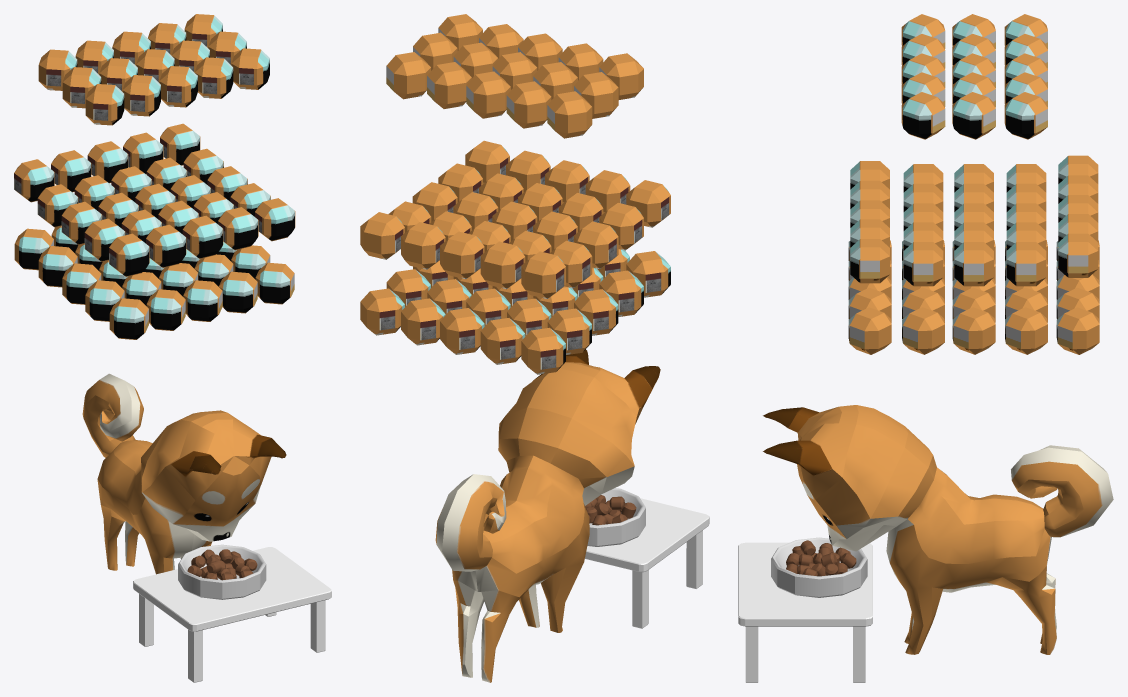
File: fullBowl_frame26.obj
3 renders of one model, left to right at view 1: azimuth 30°, elevation 25°; view 2: azimuth 150°, elevation 25°; view 3: azimuth 270°, elevation 25°, orthographic. The views are drawn at different scales.
Visible parts, largest first — view 1: newRigging1:BodzL1, Tisch:Tisch:pCube1, FressnapfFull:bulletRigidSetSolved1, FressnapfFull:pCube45, FressnapfFull:pCube46, FressnapfFull:pCube57, FressnapfFull:pCube48, FressnapfFull:pCube50, FressnapfFull:pCube43, FressnapfFull:pCube49, FressnapfFull:pCube42, FressnapfFull:pCube36 (+44 smaller); view 2: newRigging1:BodzL1, Tisch:Tisch:pCube1, FressnapfFull:bulletRigidSetSolved1, FressnapfFull:pCube39, FressnapfFull:pCube51, FressnapfFull:pCube64, FressnapfFull:pCube54, FressnapfFull:pCube37, FressnapfFull:pCube61, FressnapfFull:pCube55, FressnapfFull:pCube53, FressnapfFull:pCube41 (+45 smaller); view 3: newRigging1:BodzL1, Tisch:Tisch:pCube1, FressnapfFull:bulletRigidSetSolved1, FressnapfFull:pCube36, FressnapfFull:pCube4, FressnapfFull:pCube41, FressnapfFull:pCube50, FressnapfFull:pCube55, FressnapfFull:pCube31, FressnapfFull:pCube20, FressnapfFull:pCube10, FressnapfFull:pCube15 (+42 smaller).
Boxes of the visible parts, bbox=[...] form: newRigging1:BodzL1: bbox=[82, 373, 286, 574]; Tisch:Tisch:pCube1: bbox=[133, 547, 331, 682]; FressnapfFull:bulletRigidSetSolved1: bbox=[178, 544, 266, 599]; FressnapfFull:pCube45: bbox=[85, 84, 124, 125]; FressnapfFull:pCube46: bbox=[109, 298, 148, 339]; FressnapfFull:pCube57: bbox=[109, 233, 149, 276]; FressnapfFull:pCube48: bbox=[183, 280, 222, 321]; FressnapfFull:pCube50: bbox=[255, 262, 294, 304]; FressnapfFull:pCube43: bbox=[159, 66, 197, 107]; FressnapfFull:pCube49: bbox=[146, 289, 185, 330]; FressnapfFull:pCube42: bbox=[122, 75, 160, 116]; FressnapfFull:pCube36: bbox=[231, 48, 269, 89]; newRigging1:BodzL1: bbox=[435, 349, 660, 682]; Tisch:Tisch:pCube1: bbox=[585, 498, 709, 628]; FressnapfFull:bulletRigidSetSolved1: bbox=[587, 488, 645, 546]; FressnapfFull:pCube39: bbox=[547, 91, 592, 138]; FressnapfFull:pCube51: bbox=[521, 327, 565, 374]; FressnapfFull:pCube64: bbox=[521, 251, 565, 298]; FressnapfFull:pCube54: bbox=[480, 318, 525, 364]; FressnapfFull:pCube37: bbox=[506, 81, 551, 128]; FressnapfFull:pCube61: bbox=[480, 241, 525, 289]; FressnapfFull:pCube55: bbox=[360, 288, 404, 335]; FressnapfFull:pCube53: bbox=[440, 308, 484, 354]; FressnapfFull:pCube41: bbox=[386, 52, 430, 99]; newRigging1:BodzL1: bbox=[763, 405, 1113, 654]; Tisch:Tisch:pCube1: bbox=[738, 542, 872, 682]; FressnapfFull:bulletRigidSetSolved1: bbox=[771, 537, 867, 597]; FressnapfFull:pCube36: bbox=[901, 92, 945, 139]; FressnapfFull:pCube4: bbox=[952, 307, 995, 354]; FressnapfFull:pCube41: bbox=[1004, 92, 1047, 139]; FressnapfFull:pCube50: bbox=[848, 307, 891, 354]; FressnapfFull:pCube55: bbox=[1056, 307, 1099, 354]; FressnapfFull:pCube31: bbox=[952, 92, 995, 139]; FressnapfFull:pCube20: bbox=[1006, 242, 1046, 286]; FressnapfFull:pCube10: bbox=[902, 307, 944, 354]; FressnapfFull:pCube15: bbox=[1005, 307, 1047, 354].
Size of the model in its own units: 5.73 by 16.34 by 9.44.
Materials: 4 (3 with a texture image).
